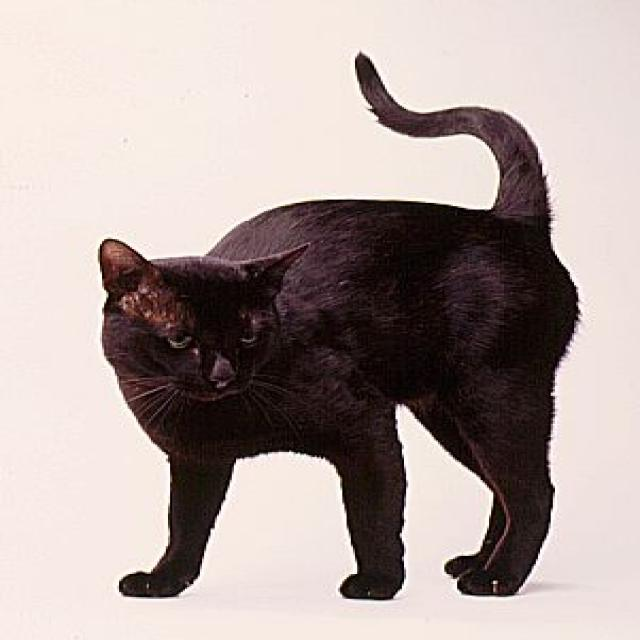Bombay: (95, 45, 588, 603)
